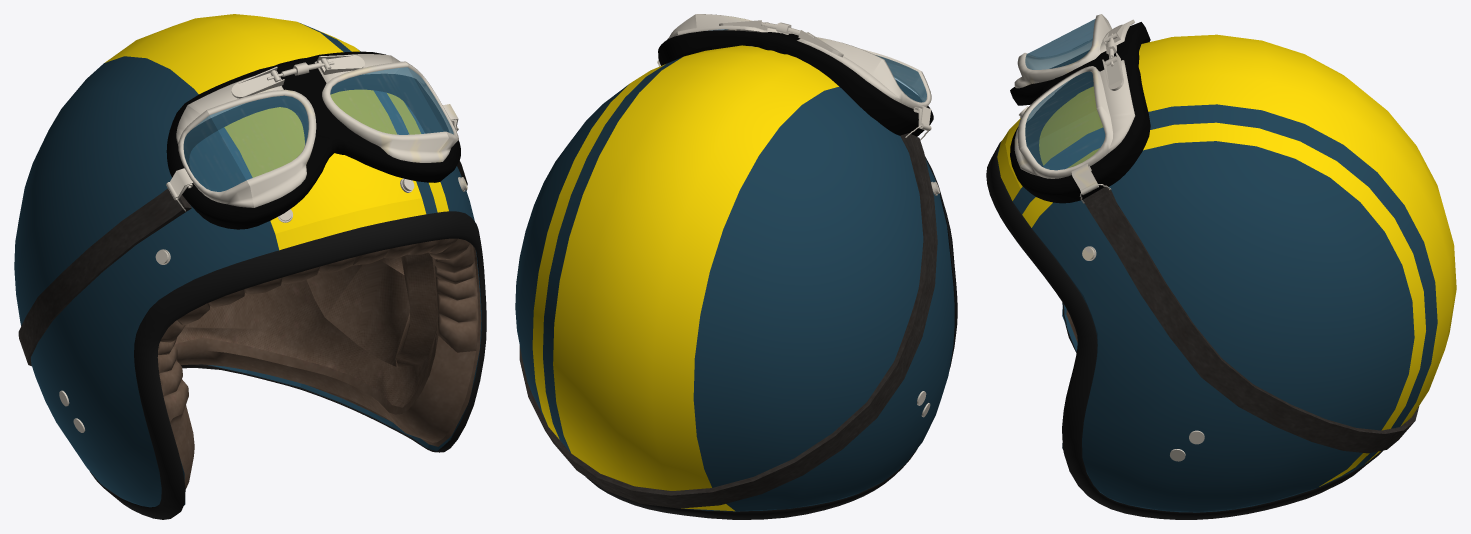
Rendered from agv_motorcycle.glb.
The picture shows the model from 3 angles, left to right: view 1: azimuth 30°, elevation 25°; view 2: azimuth 150°, elevation 25°; view 3: azimuth 270°, elevation 25°; orthographic projection. The views are drawn at different scales.
Parts seen in each view (by area): view 1: prop_helmet_agv_low.009, prop_helmet_agv_low.006, prop_helmet_agv_low.008, prop_helmet_agv_low.007, prop_helmet_agv_low.005, prop_helmet_agv_low.003, prop_helmet_agv_low, prop_helmet_agv_low.002, prop_helmet_agv_low.004; view 2: prop_helmet_agv_low.009, prop_helmet_agv_low.006, prop_helmet_agv_low.004, prop_helmet_agv_low, prop_helmet_agv_low.002, prop_helmet_agv_low.005, prop_helmet_agv_low.003; view 3: prop_helmet_agv_low.009, prop_helmet_agv_low.006, prop_helmet_agv_low.004, prop_helmet_agv_low.005, prop_helmet_agv_low.002, prop_helmet_agv_low, prop_helmet_agv_low.003.
Part boxes in pixels (x1,y1,x2,y2): prop_helmet_agv_low.009: [14, 23, 481, 507]; prop_helmet_agv_low.006: [105, 14, 448, 250]; prop_helmet_agv_low.008: [175, 252, 436, 407]; prop_helmet_agv_low.007: [157, 238, 481, 488]; prop_helmet_agv_low.005: [90, 211, 486, 519]; prop_helmet_agv_low.003: [183, 67, 453, 191]; prop_helmet_agv_low: [166, 51, 460, 229]; prop_helmet_agv_low.002: [59, 54, 467, 432]; prop_helmet_agv_low.004: [18, 161, 467, 366]; prop_helmet_agv_low.009: [515, 57, 954, 511]; prop_helmet_agv_low.006: [532, 45, 838, 511]; prop_helmet_agv_low.004: [519, 133, 937, 508]; prop_helmet_agv_low: [658, 30, 933, 136]; prop_helmet_agv_low.002: [657, 14, 939, 417]; prop_helmet_agv_low.005: [586, 156, 957, 519]; prop_helmet_agv_low.003: [707, 29, 926, 102]; prop_helmet_agv_low.009: [997, 104, 1437, 512]; prop_helmet_agv_low.006: [997, 34, 1456, 486]; prop_helmet_agv_low.004: [1083, 187, 1419, 453]; prop_helmet_agv_low.005: [986, 141, 1382, 519]; prop_helmet_agv_low.002: [1014, 14, 1204, 461]; prop_helmet_agv_low: [1010, 22, 1150, 203]; prop_helmet_agv_low.003: [1025, 19, 1105, 170].
Bounding box in the file's own units: 301 × 310 × 321.
Materials: 9 (9 with a texture image).
